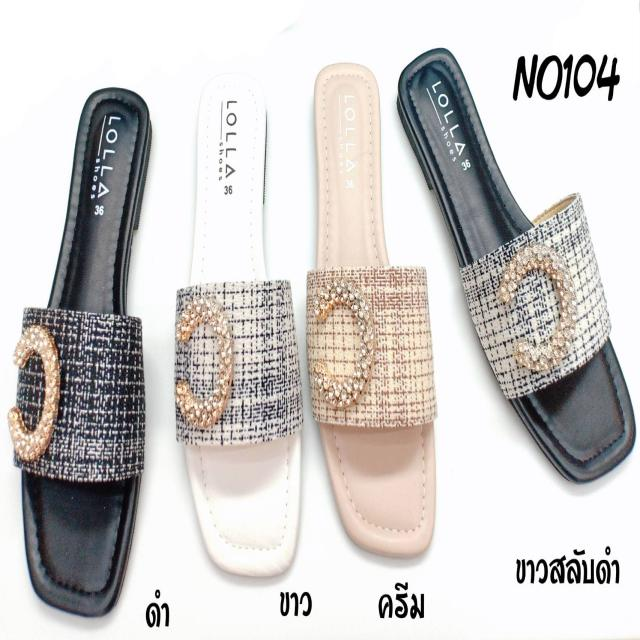black: (21, 91, 144, 607)
cream: (310, 61, 431, 558)
white: (186, 76, 304, 576)
white-black: (393, 47, 636, 477)
